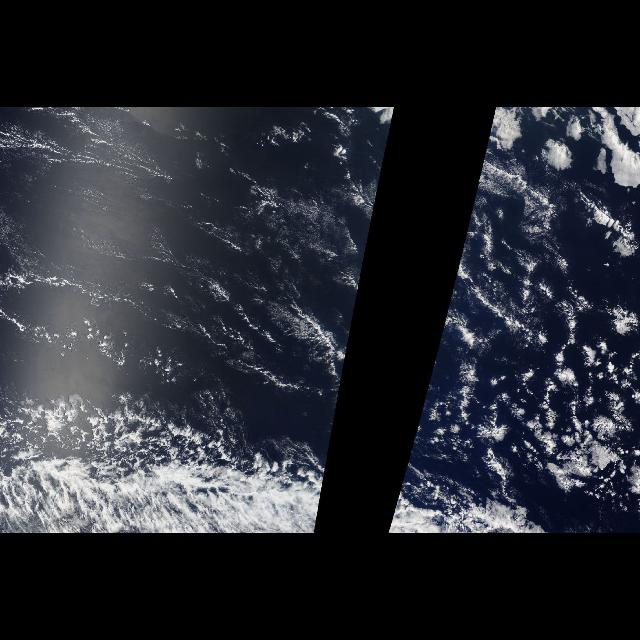Fish: (5, 398, 339, 534), (388, 398, 534, 534)
